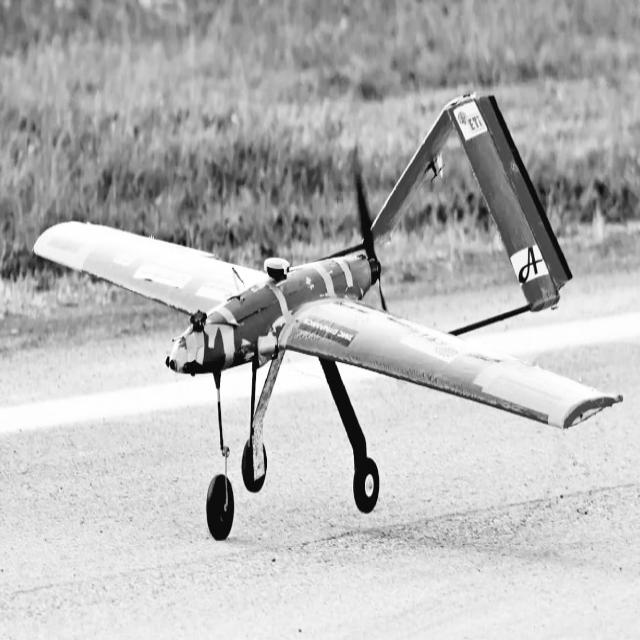iha: (4, 31, 620, 513), (207, 467, 233, 540)
